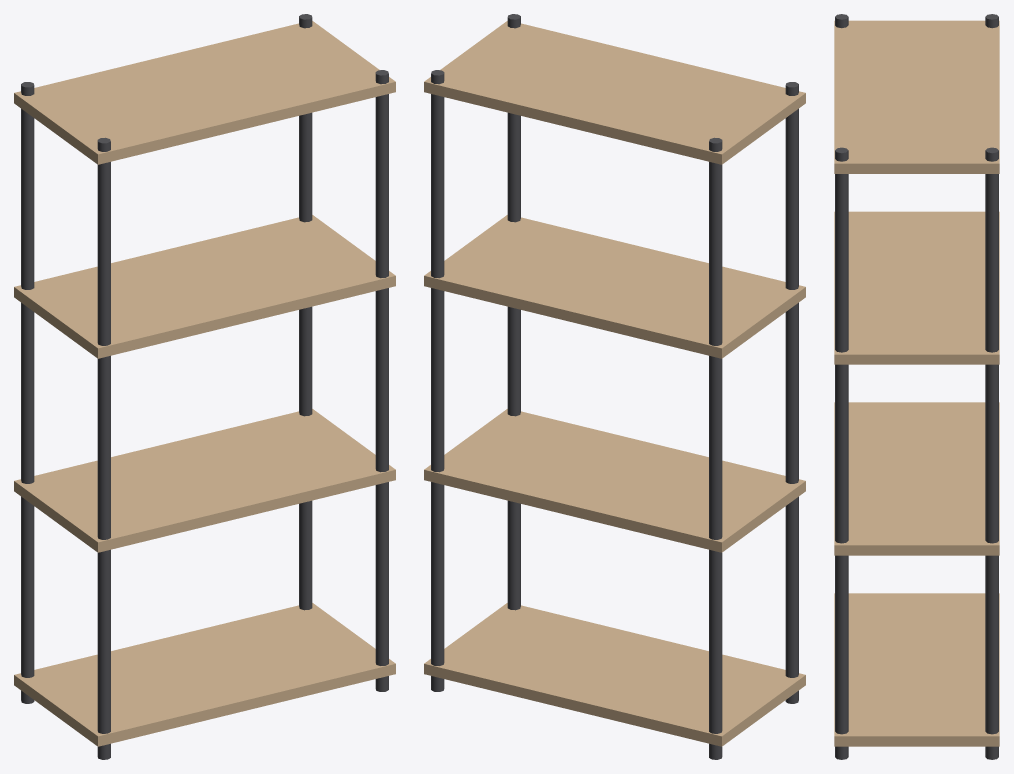
File: ShelvingRack.glb
The picture shows the model from 3 angles, left to right: view 1: azimuth 30°, elevation 25°; view 2: azimuth 150°, elevation 25°; view 3: azimuth 270°, elevation 25°; orthographic projection.
Visible parts, largest first — view 1: ShelvingRack; view 2: ShelvingRack; view 3: ShelvingRack.
Boxes of the visible parts, x1,y1,x2,y2 form: ShelvingRack: (14,14,395,759); ShelvingRack: (424,14,805,759); ShelvingRack: (834,14,999,759).
Size of the model in its own units: 0.9 by 1.78 by 0.44.
